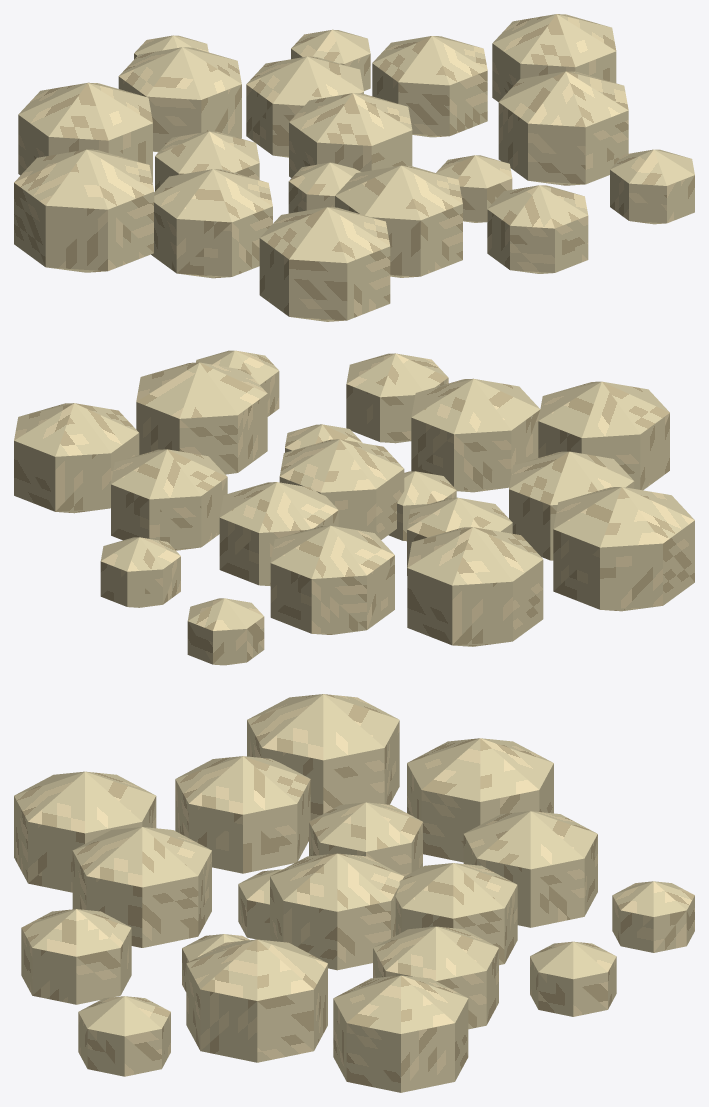
File: cauliflower.glb
The picture shows the model from 3 angles, top to bottom: view 1: azimuth 30°, elevation 25°; view 2: azimuth 150°, elevation 25°; view 3: azimuth 270°, elevation 25°; orthographic projection. The views are drawn at different scales.
Visible parts, largest first — view 1: block_shredded cauliflower crumb (×18); view 2: block_shredded cauliflower crumb (×18); view 3: block_shredded cauliflower crumb (×18).
Part boxes in pixels (bbox=[...]): block_shredded cauliflower crumb (×18): bbox=[14, 14, 694, 321]; block_shredded cauliflower crumb (×18): bbox=[14, 350, 694, 665]; block_shredded cauliflower crumb (×18): bbox=[14, 694, 694, 1092].
Size of the model in its own units: 0.058 by 0.011 by 0.0513.
Materials: 1 (1 with a texture image).
